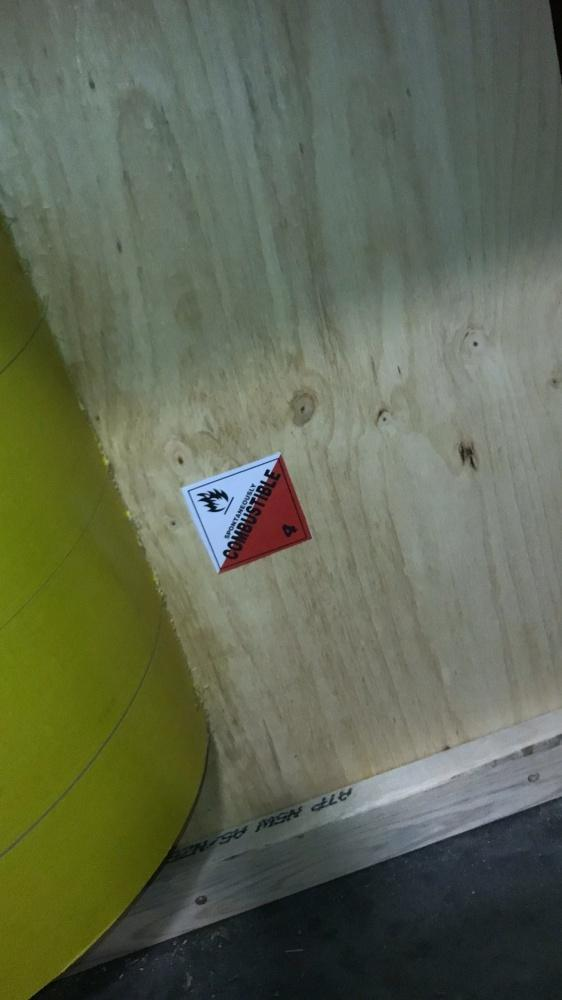spontaneously-combustible: (178, 452, 311, 573)
